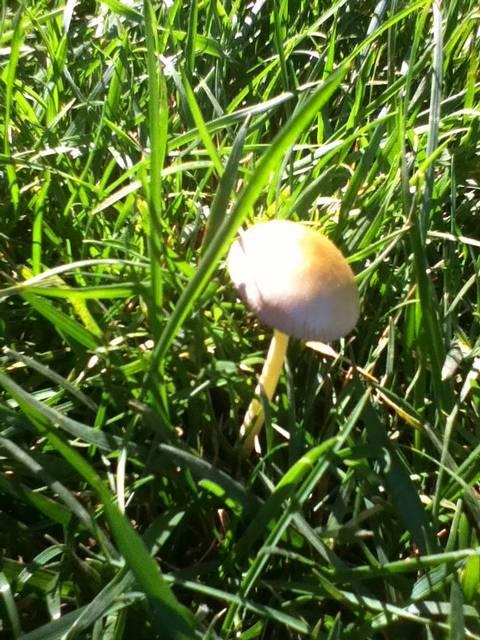Edible Mushroom: (225, 217, 360, 458)
